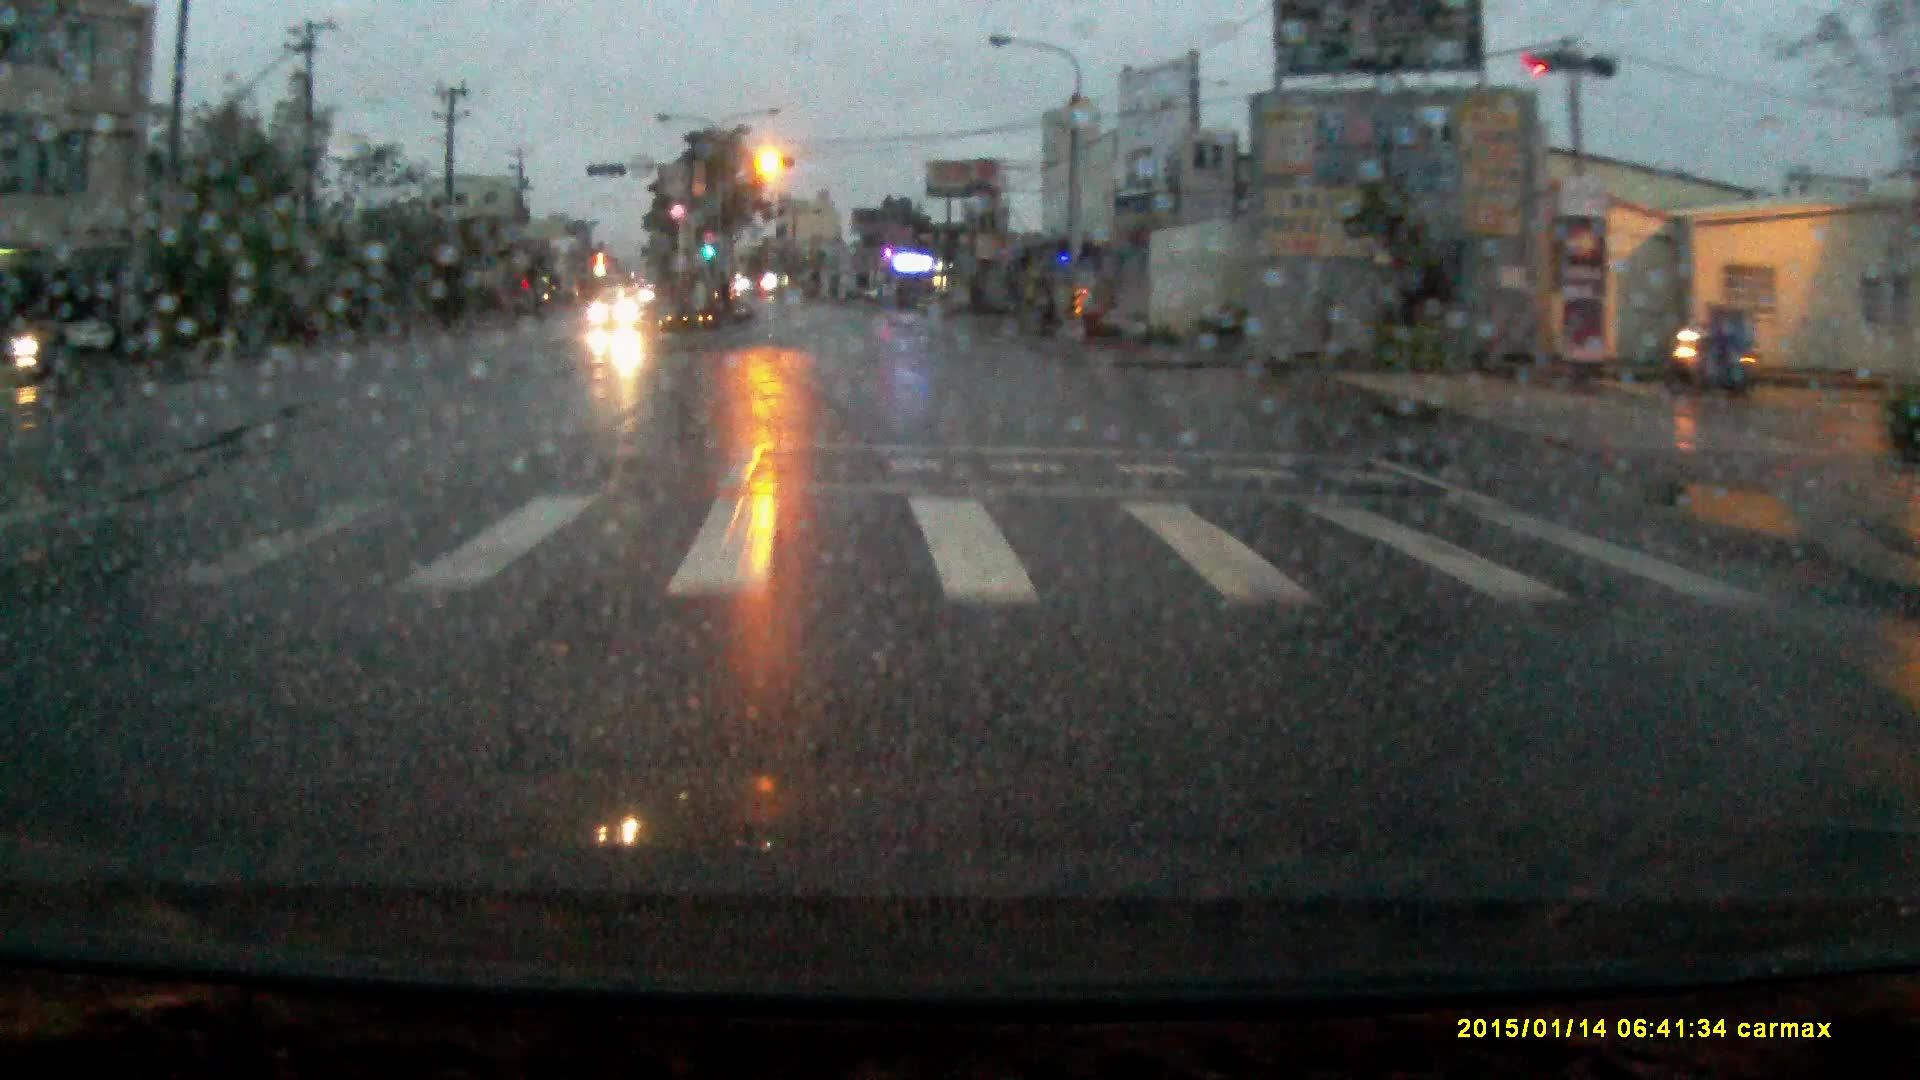rider: (1671, 294, 1754, 400), (13, 299, 60, 385)
vehicle: (590, 292, 649, 334)
